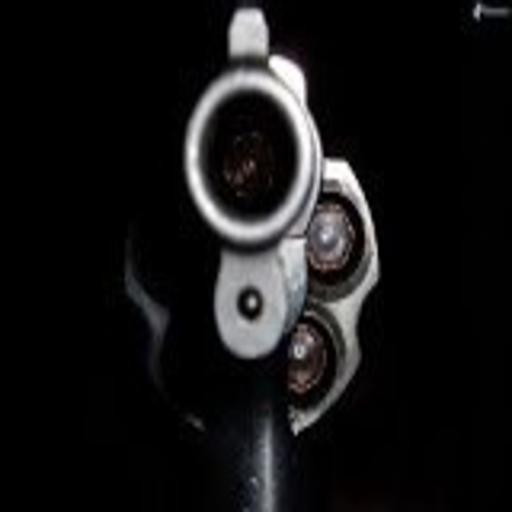Handgun: (107, 3, 386, 511)
